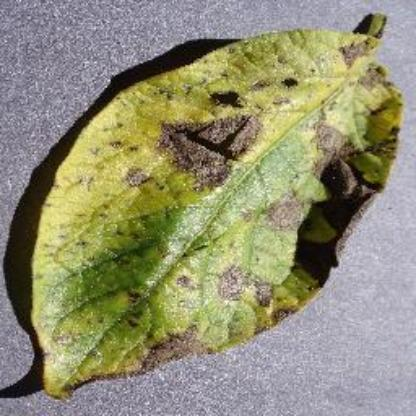Early-Blight: (31, 12, 407, 402)
